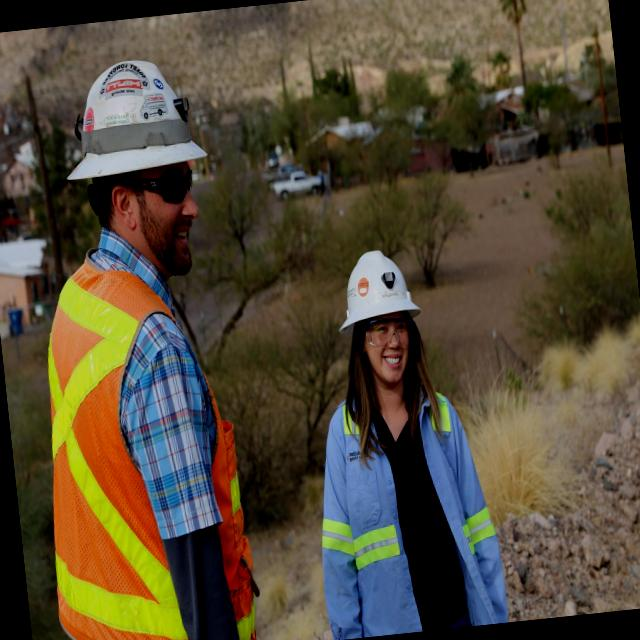helmet: (38, 45, 208, 196), (322, 236, 428, 343)
vest: (16, 242, 257, 640), (307, 391, 488, 638)
